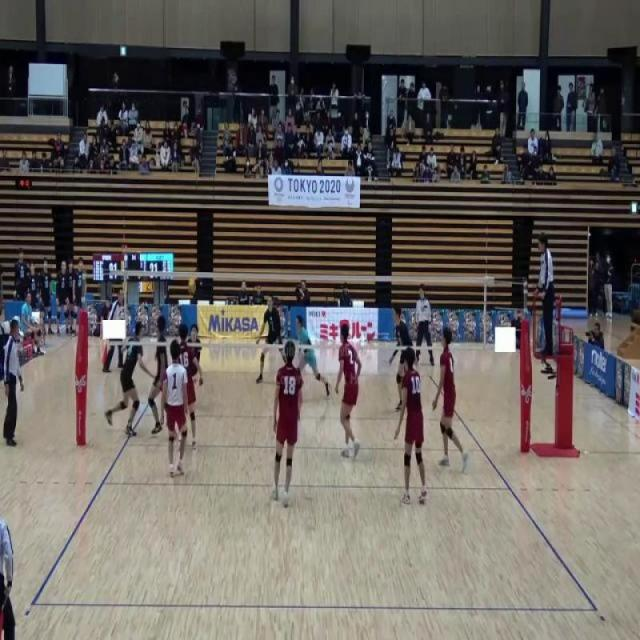volleyball: (188, 277, 196, 296)
